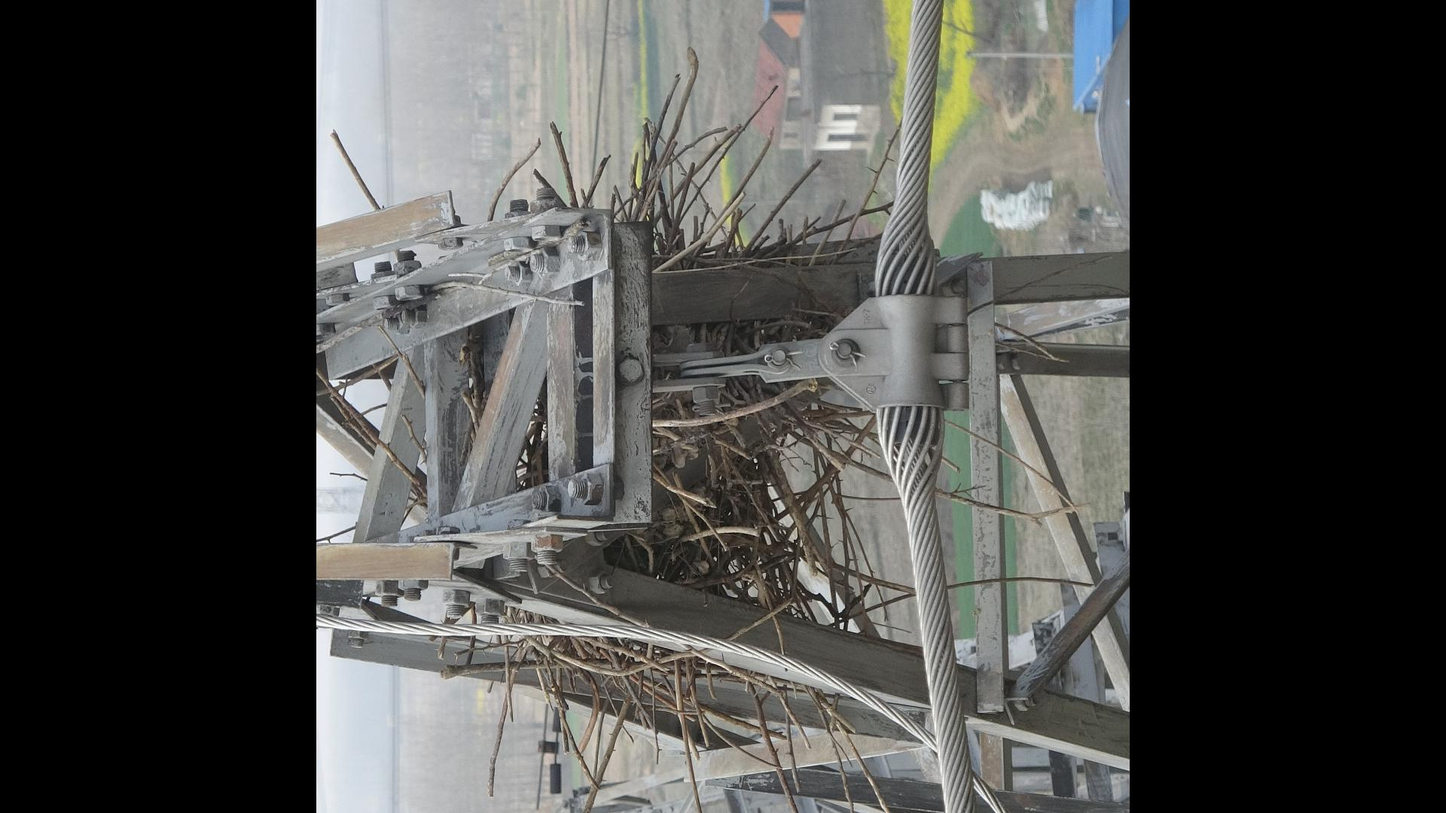nest: (494, 79, 861, 742)
